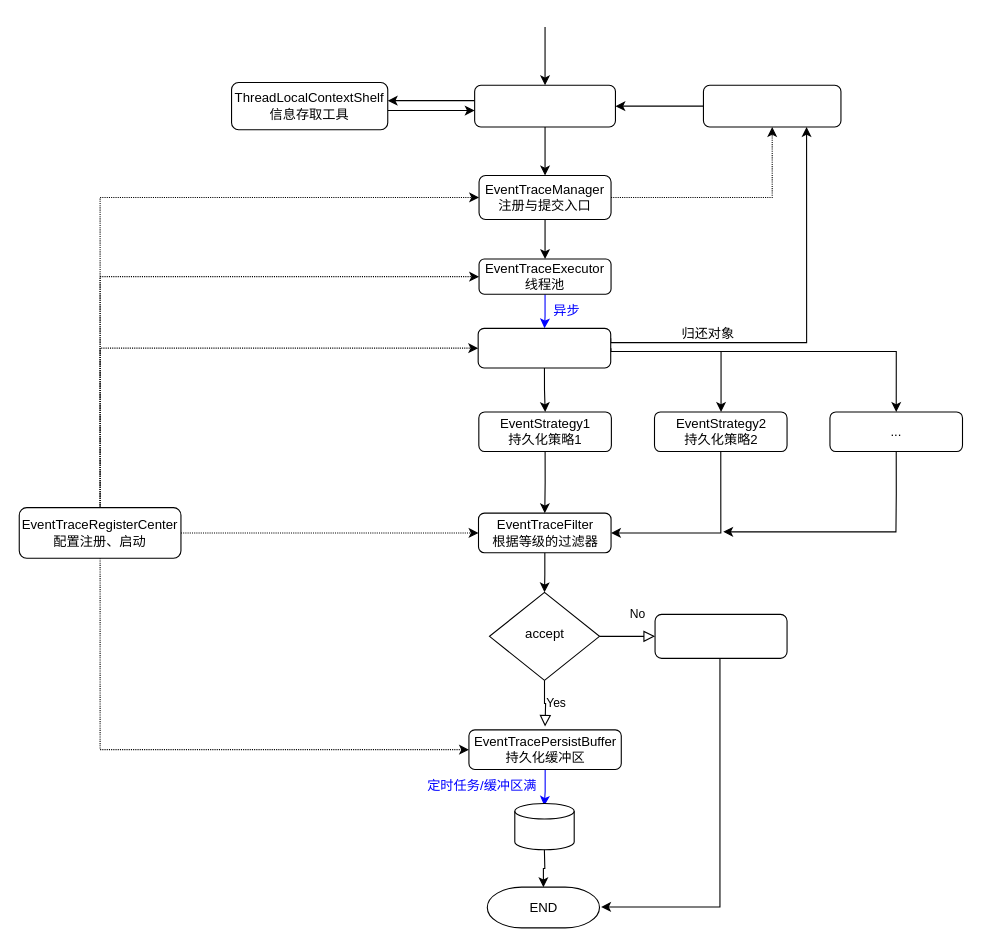
Image size: 982x947. Some labels were removed from this diagram. The shapes that lost their labels are listed below. From the top down, each one's centre as x and y in pixels, then its label:
At pixel 544 105: "业务调用".
At pixel 771 105: "TraceEventPool 对象池".
At pixel 544 347: "EventTraceAppender 执行逻辑模板".
At pixel 720 635: "Discard".
At pixel 544 826: "Persist".
